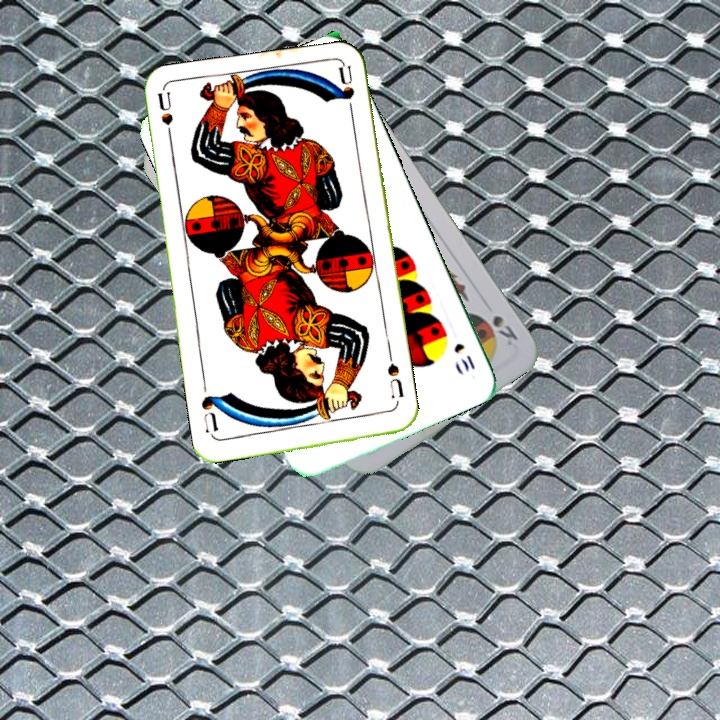S10: (449, 339, 478, 375)
SK: (488, 311, 521, 343)
SU: (383, 350, 407, 409), (153, 90, 176, 149)
